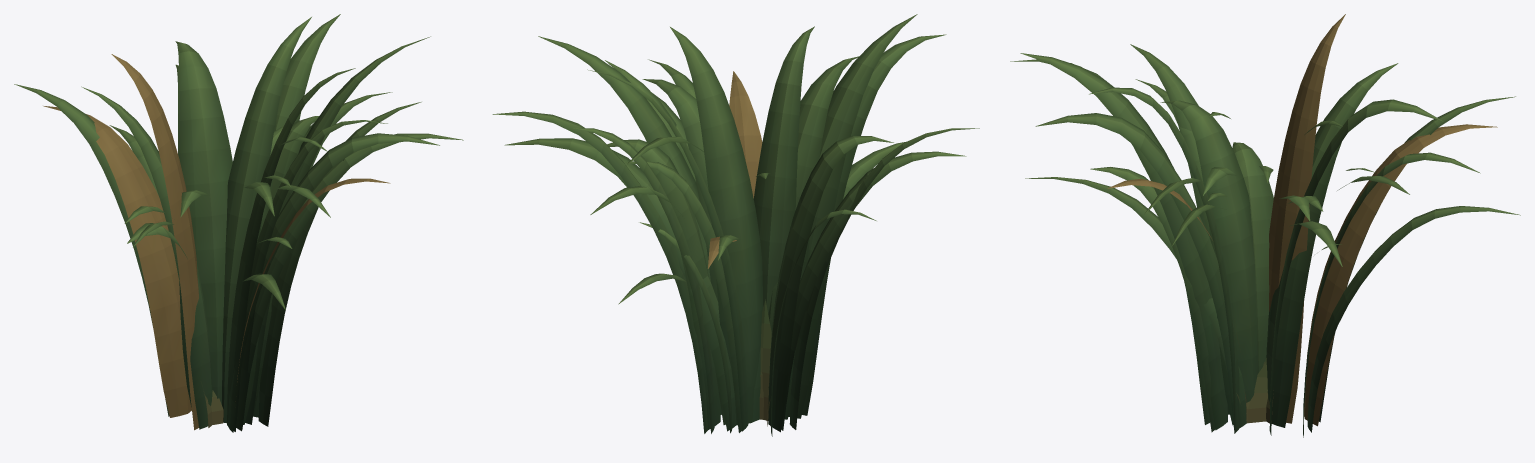
The model's file is Grass_Tuft.glb.
3 views of the same model, side by side, from view 1: azimuth 30°, elevation 25°; view 2: azimuth 150°, elevation 25°; view 3: azimuth 270°, elevation 25° (orthographic). The views are drawn at different scales.
Visible parts, largest first — view 1: Grass_Tuft; view 2: Grass_Tuft; view 3: Grass_Tuft.
Part boxes in pixels (bbox=[...]): Grass_Tuft: bbox=[14, 14, 463, 432]; Grass_Tuft: bbox=[492, 14, 979, 436]; Grass_Tuft: bbox=[1010, 14, 1520, 437].
Bounding box in the file's own units: 0.3529 × 0.3254 × 0.4021.
